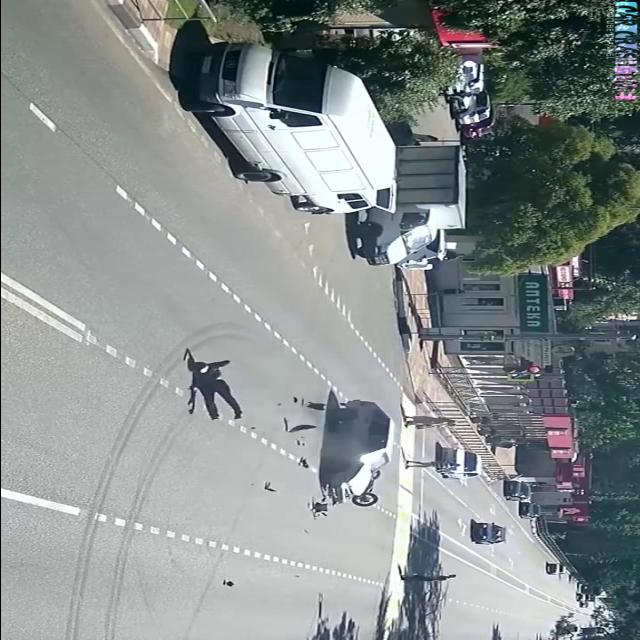accident: (310, 391, 406, 511)
non_accident: (168, 35, 500, 273)
